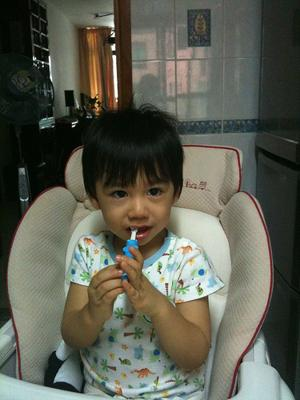person: (61, 105, 224, 398)
